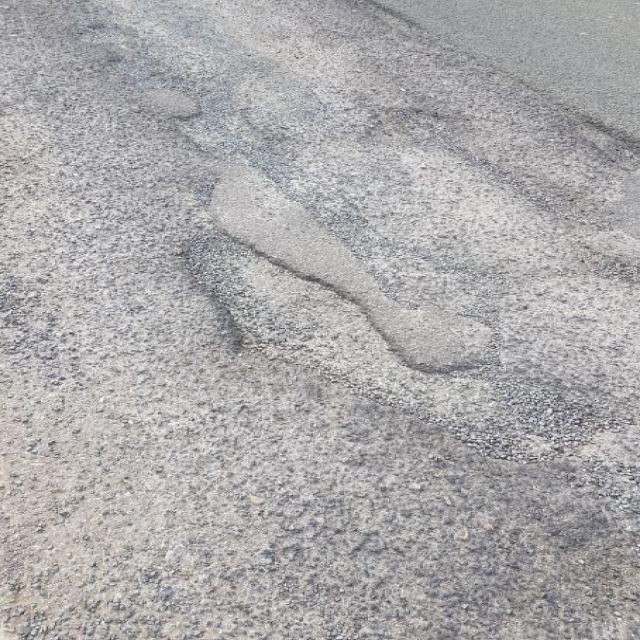pothole: (172, 223, 485, 404)
